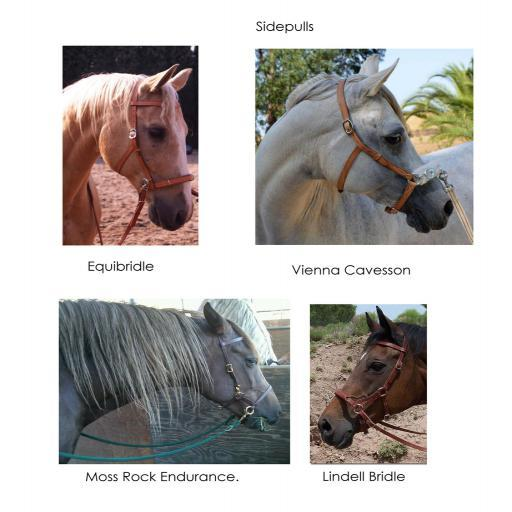Horse: (254, 50, 474, 245), (58, 298, 283, 467), (58, 61, 196, 245), (315, 303, 427, 451)
